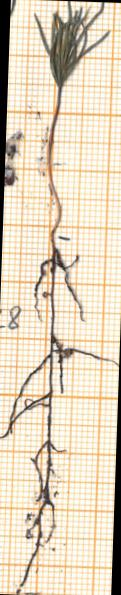flower: (34, 1, 109, 87)
root: (0, 243, 118, 594)
stem: (47, 88, 61, 243)
